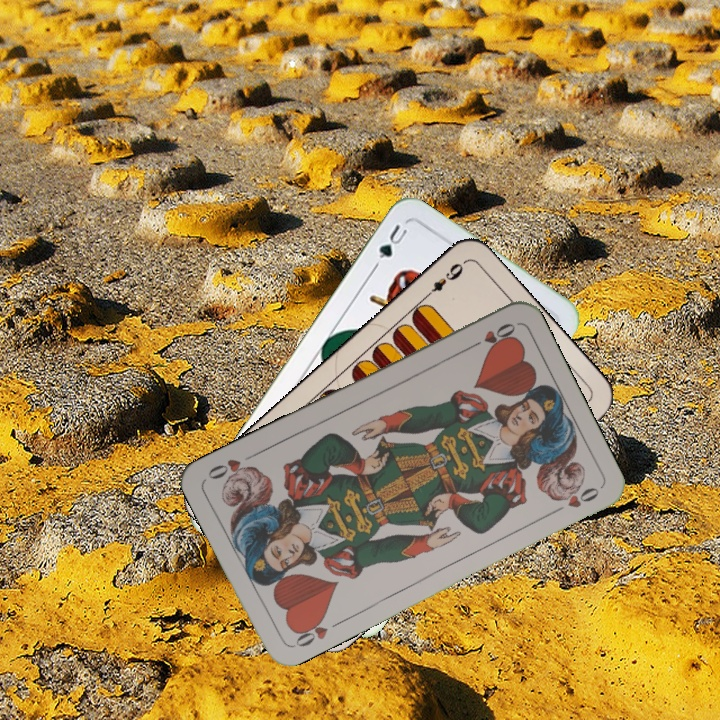E9: (419, 258, 467, 302)
GU: (370, 220, 410, 270)
HO: (463, 319, 519, 353), (288, 611, 331, 650)
